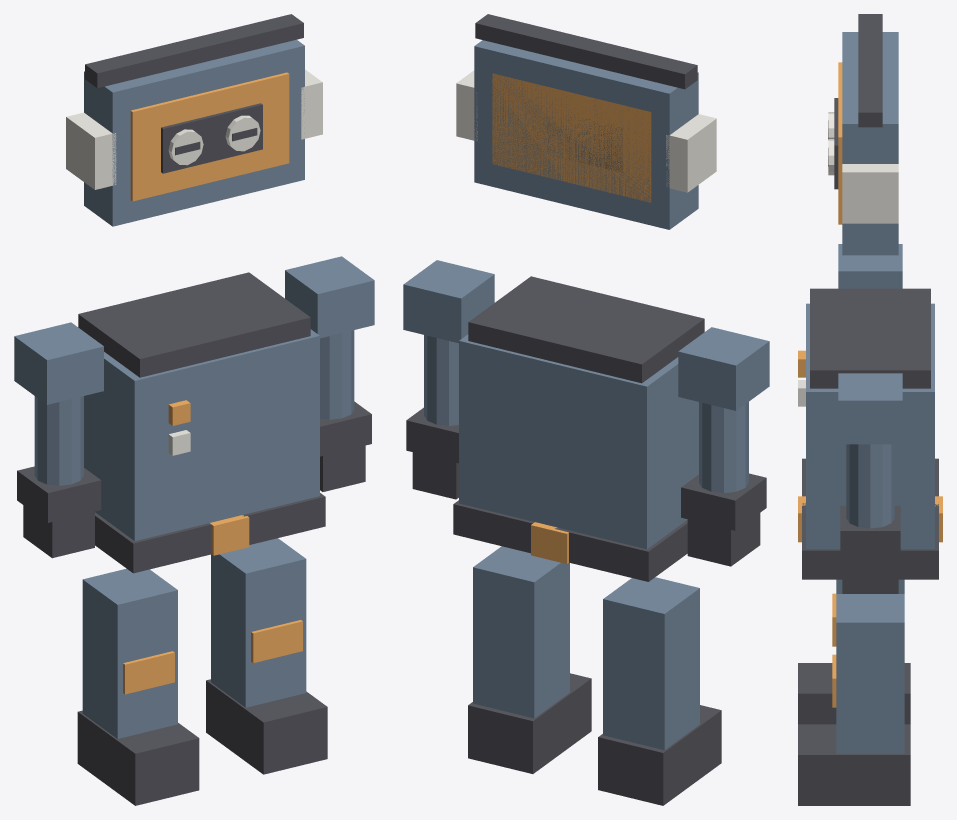
File: cassette-punk.glb
3 renders of one model, left to right at view 1: azimuth 30°, elevation 25°; view 2: azimuth 150°, elevation 25°; view 3: azimuth 270°, elevation 25°, orthographic. The views are drawn at different scales.
Parts seen in each view (by area): view 1: DenimVest, CassetteShell, BandTee, Jeans_L, Jeans_R, CassetteLabel, CombatBoot_L, CombatBoot_R, StuddedBelt, VestShoulder_L, HeadphoneBand, VestShoulder_R (+14 smaller); view 2: DenimVest, CassetteShell, Jeans_L, BandTee, Jeans_R, CassetteLabel, CombatBoot_L, CombatBoot_R, StuddedBelt, VestShoulder_L, HeadphoneBand, VestShoulder_R (+10 smaller); view 3: DenimVest, BandTee, Jeans_R, CombatBoot_R, CassetteShell, VestShoulder_R, Arm_R, EarCup_R, StuddedBelt, HeadphoneBand, CombatBoot_L, Wristband_R (+5 smaller).
Boxes of the visible parts, <box> form: DenimVest: <box>84,329,319,540</box>; CassetteShell: <box>84,39,304,226</box>; BandTee: <box>78,272,310,377</box>; Jeans_L: <box>82,568,177,738</box>; Jeans_R: <box>211,538,306,707</box>; CassetteLabel: <box>130,72,289,201</box>; CombatBoot_L: <box>77,710,199,805</box>; CombatBoot_R: <box>206,679,327,774</box>; StuddedBelt: <box>95,493,325,573</box>; VestShoulder_L: <box>14,322,103,404</box>; HeadphoneBand: <box>85,14,303,88</box>; VestShoulder_R: <box>285,256,374,338</box>; DenimVest: <box>459,334,698,549</box>; CassetteShell: <box>474,40,698,229</box>; Jeans_L: <box>603,577,699,750</box>; BandTee: <box>468,276,704,383</box>; Jeans_R: <box>473,546,569,718</box>; CassetteLabel: <box>492,73,651,202</box>; CombatBoot_L: <box>598,705,721,805</box>; CombatBoot_R: <box>468,673,591,773</box>; StuddedBelt: <box>453,500,687,581</box>; VestShoulder_L: <box>678,327,769,410</box>; HeadphoneBand: <box>475,14,697,89</box>; VestShoulder_R: <box>403,260,494,343</box>; DenimVest: <box>806,303,934,548</box>; BandTee: <box>810,288,930,388</box>; Jeans_R: <box>836,594,904,753</box>; CombatBoot_R: <box>798,724,910,805</box>; CassetteShell: <box>842,32,898,255</box>; VestShoulder_R: <box>838,373,902,444</box>; Arm_R: <box>846,444,894,528</box>; EarCup_R: <box>842,164,898,223</box>; StuddedBelt: <box>802,458,938,579</box>; HeadphoneBand: <box>858,14,882,127</box>; CombatBoot_L: <box>798,663,910,724</box>; Wristband_R: <box>840,505,900,560</box>.
Bounding box in the file's own units: 0.92 × 1.91 × 0.36.
